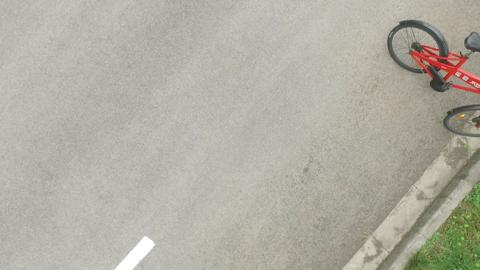bike: (363, 15, 473, 117)
